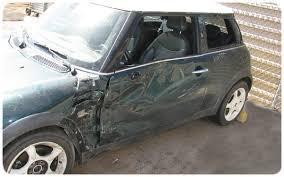doorouter-dent: (110, 56, 196, 137)
fender-dent: (38, 87, 105, 142)
